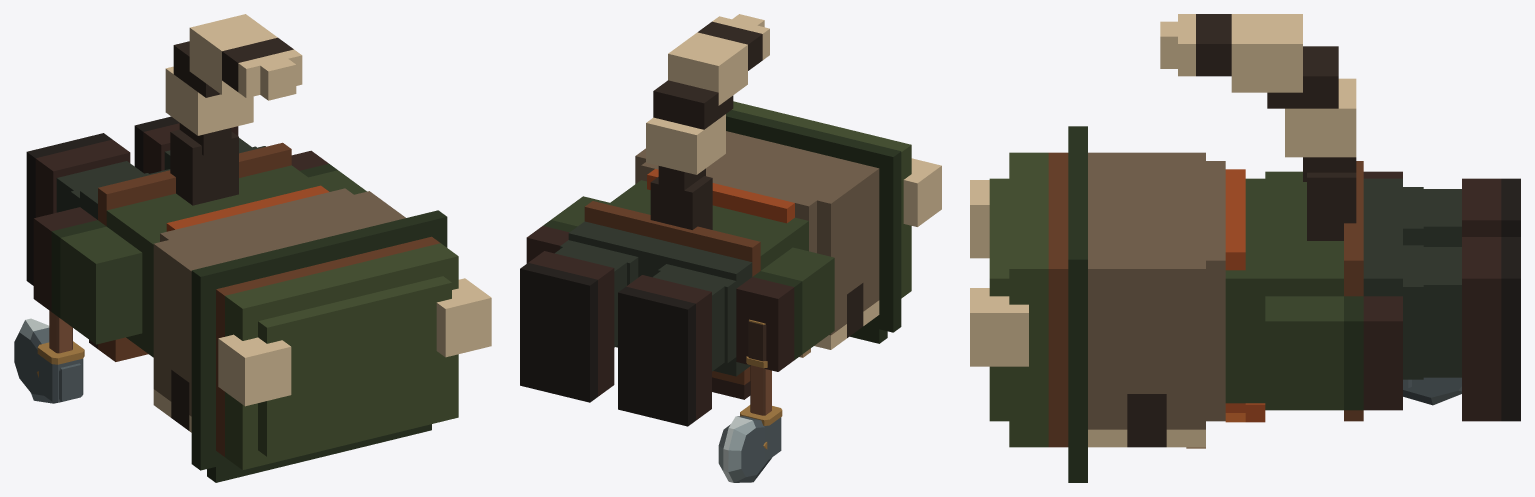
File: raccoon.glb
3 views of the same model, side by side, from view 1: azimuth 30°, elevation 25°; view 2: azimuth 150°, elevation 25°; view 3: azimuth 270°, elevation 25° (orthographic). The views are drawn at different scales.
Visible parts, largest first — view 1: Piece_07, Piece_00, Piece_28, Piece_14, Piece_10, Piece_24, Piece_04, Piece_27, Piece_02, Piece_25, Piece_13, Piece_18 (+8 smaller); view 2: Piece_00, Piece_28, Piece_23, Piece_24, Piece_07, Piece_10, Piece_14, Piece_18, Piece_25, Piece_13, Piece_27, Piece_04 (+11 smaller); view 3: Piece_00, Piece_07, Piece_10, Piece_28, Piece_12, Piece_23, Piece_20, Piece_17, Piece_02, Piece_24, Piece_27, Piece_09 (+6 smaller).
Part boxes in pixels (bbox=[...]): Piece_07: bbox=[191, 210, 458, 482]; Piece_00: bbox=[153, 188, 405, 432]; Piece_28: bbox=[165, 14, 302, 155]; Piece_14: bbox=[51, 220, 142, 344]; Piece_10: bbox=[80, 146, 319, 357]; Piece_24: bbox=[26, 133, 130, 285]; Piece_04: bbox=[218, 334, 291, 406]; Piece_27: bbox=[170, 129, 238, 205]; Piece_02: bbox=[436, 278, 491, 357]; Piece_25: bbox=[98, 142, 291, 226]; Piece_13: bbox=[14, 318, 80, 403]; Piece_18: bbox=[33, 207, 97, 311]; Piece_00: bbox=[635, 131, 879, 357]; Piece_28: bbox=[646, 14, 769, 198]; Piece_23: bbox=[520, 251, 614, 402]; Piece_24: bbox=[618, 275, 711, 426]; Piece_07: bbox=[726, 101, 911, 343]; Piece_10: bbox=[568, 180, 808, 376]; Piece_14: bbox=[753, 247, 834, 359]; Piece_18: bbox=[736, 277, 794, 371]; Piece_25: bbox=[584, 201, 760, 276]; Piece_13: bbox=[718, 416, 771, 482]; Piece_27: bbox=[650, 176, 712, 229]; Piece_04: bbox=[903, 158, 941, 226]; Piece_00: bbox=[1088, 152, 1225, 448]; Piece_07: bbox=[989, 126, 1087, 482]; Piece_10: bbox=[1225, 178, 1402, 403]; Piece_28: bbox=[1160, 14, 1356, 181]; Piece_12: bbox=[1265, 296, 1363, 410]; Piece_23: bbox=[1462, 237, 1520, 421]; Piece_20: bbox=[1412, 247, 1461, 377]; Piece_17: bbox=[1363, 296, 1402, 410]; Piece_02: bbox=[970, 288, 1028, 366]; Piece_24: bbox=[1462, 178, 1520, 236]; Piece_27: bbox=[1307, 172, 1356, 240]; Piece_09: bbox=[1225, 169, 1265, 422].
Bounding box in the file's own units: 1.35 × 1.82 × 2.1.
